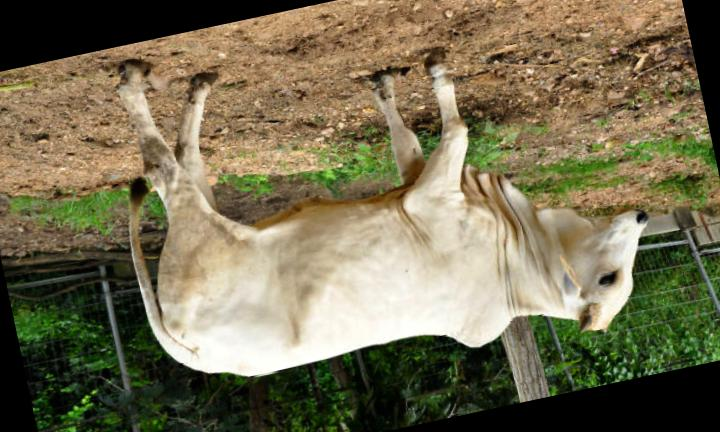Brahman: (120, 51, 649, 377)
